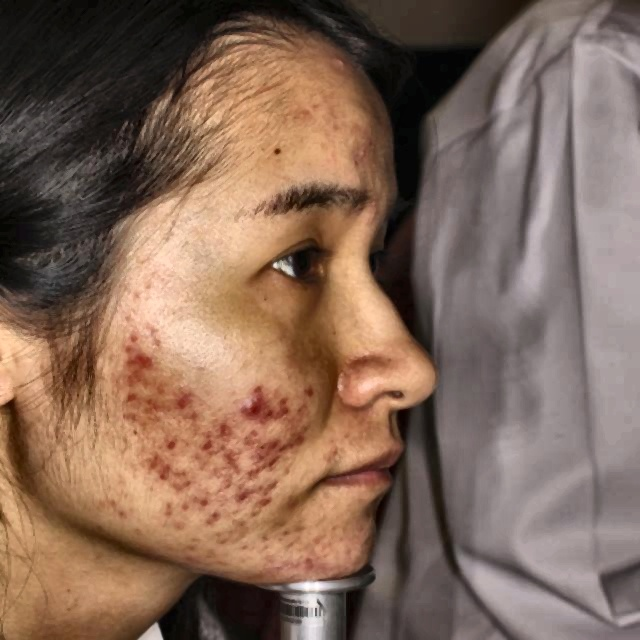papule: (292, 544, 334, 570), (242, 449, 272, 478), (236, 395, 264, 424), (208, 414, 236, 442), (172, 383, 199, 411), (216, 444, 243, 471), (130, 445, 161, 467), (272, 387, 298, 413), (128, 344, 149, 373), (252, 435, 288, 450), (193, 486, 216, 509), (119, 383, 139, 408), (226, 480, 251, 500), (235, 381, 265, 397), (341, 143, 372, 158), (203, 503, 226, 523), (153, 490, 171, 514), (197, 429, 213, 455), (179, 469, 194, 496), (262, 484, 278, 508), (120, 370, 147, 384), (183, 547, 205, 564), (153, 461, 172, 479), (142, 394, 158, 414), (283, 428, 309, 440), (120, 330, 134, 352), (169, 431, 186, 449)
